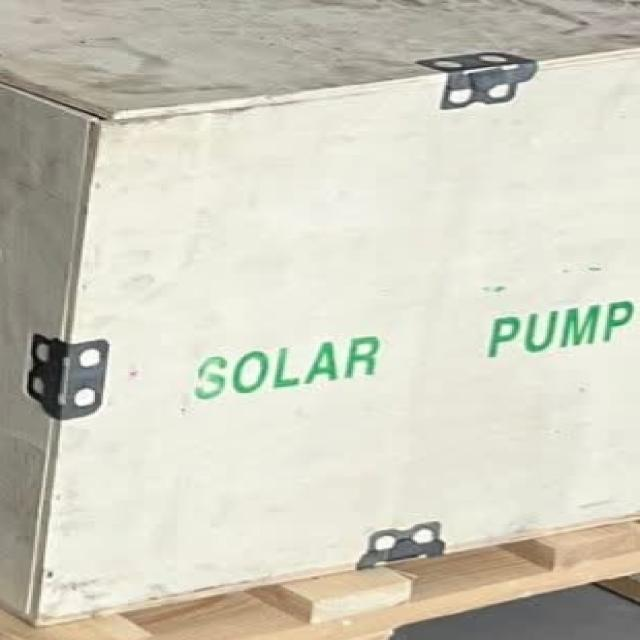wooden_box: (3, 0, 640, 633)
